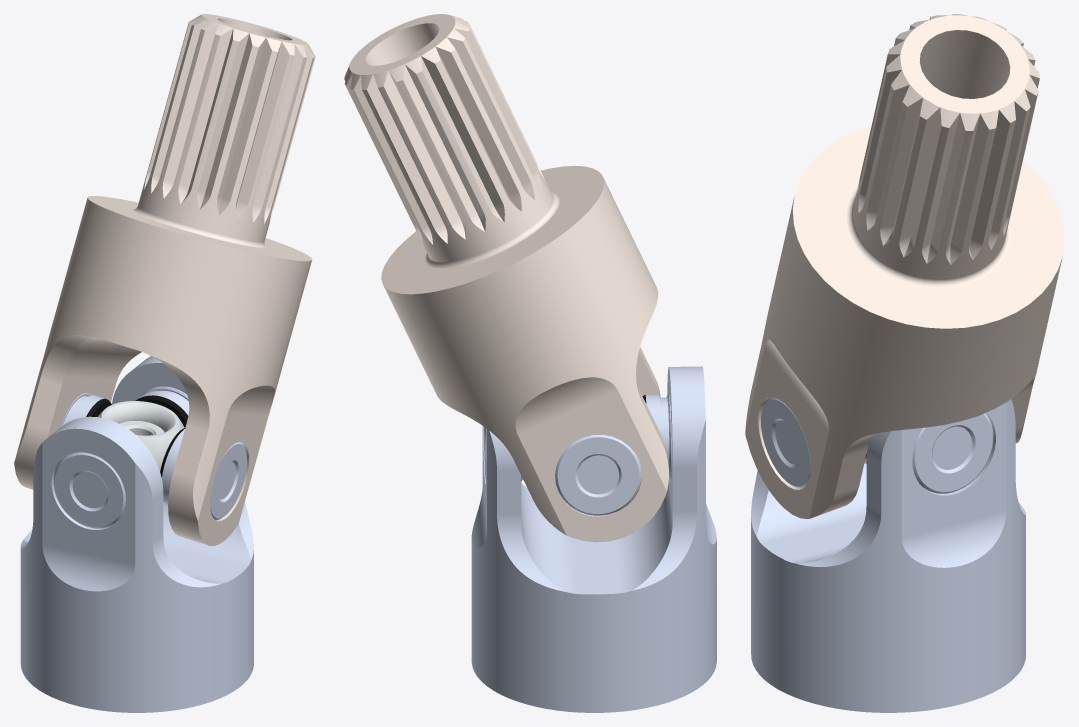
File: baja-ujoint.glb
The picture shows the model from 3 angles, left to right: view 1: azimuth 30°, elevation 25°; view 2: azimuth 150°, elevation 25°; view 3: azimuth 270°, elevation 25°; orthographic projection. The views are drawn at different scales.
Parts seen in each view (by area): view 1: Steel Yolk-1, Aluminum_Yolk-1, Cross_Revised-1; view 2: Steel Yolk-1, Aluminum_Yolk-1, Cross_Revised-1; view 3: Steel Yolk-1, Aluminum_Yolk-1, Cross_Revised-1.
Boxes of the visible parts, <box> form: Steel Yolk-1: <box>14,14,315,545</box>; Aluminum_Yolk-1: <box>20,356,253,712</box>; Cross_Revised-1: <box>53,386,246,528</box>; Steel Yolk-1: <box>344,14,668,542</box>; Aluminum_Yolk-1: <box>471,366,716,712</box>; Cross_Revised-1: <box>483,394,671,515</box>; Steel Yolk-1: <box>745,14,1064,518</box>; Aluminum_Yolk-1: <box>751,399,1025,712</box>; Cross_Revised-1: <box>761,397,993,493</box>.
Size of the model in its own units: 0.0668 by 0.1266 by 0.0523.
